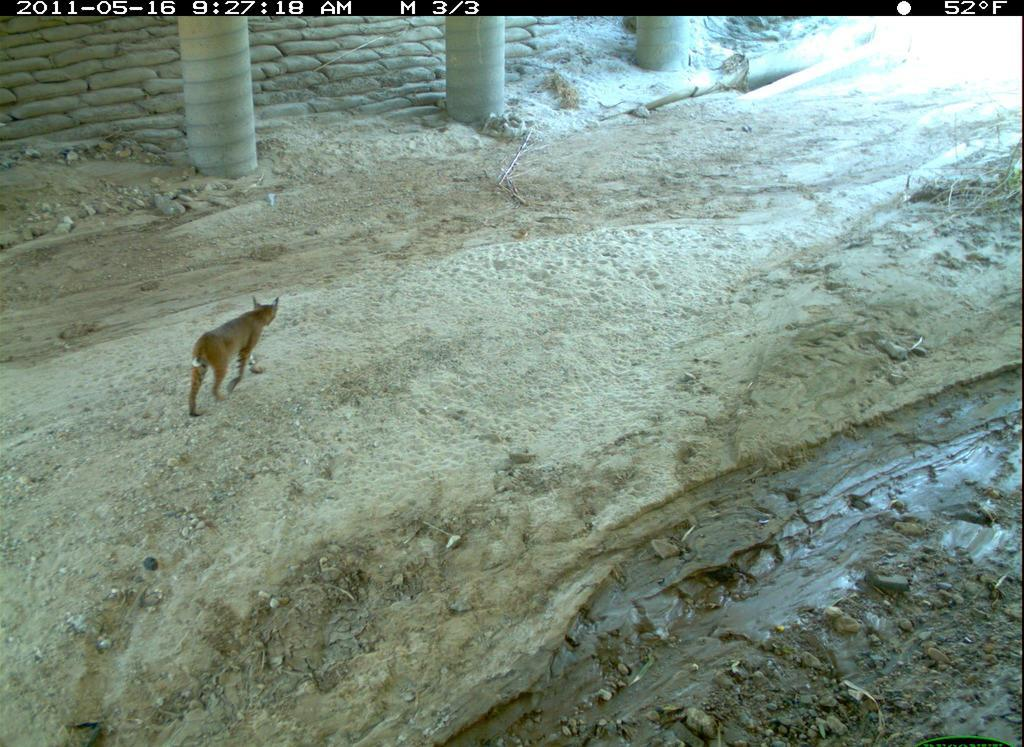bobcat: (186, 297, 289, 423)
